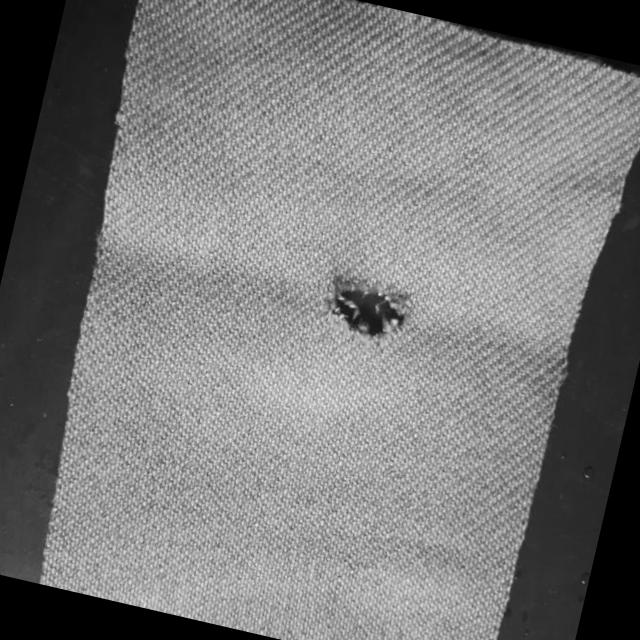hole: (317, 266, 415, 348)
